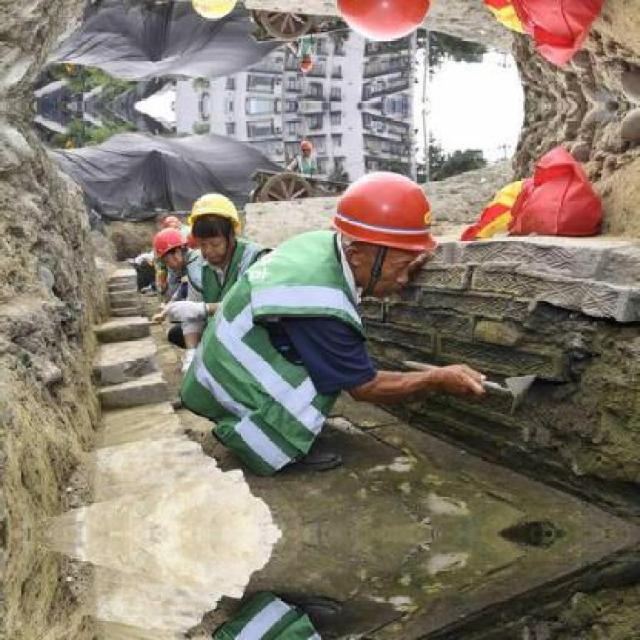helmet: (323, 166, 440, 289), (323, 0, 442, 45), (184, 186, 244, 263), (153, 223, 192, 269), (183, 0, 245, 25), (292, 134, 314, 158), (292, 52, 314, 74)
